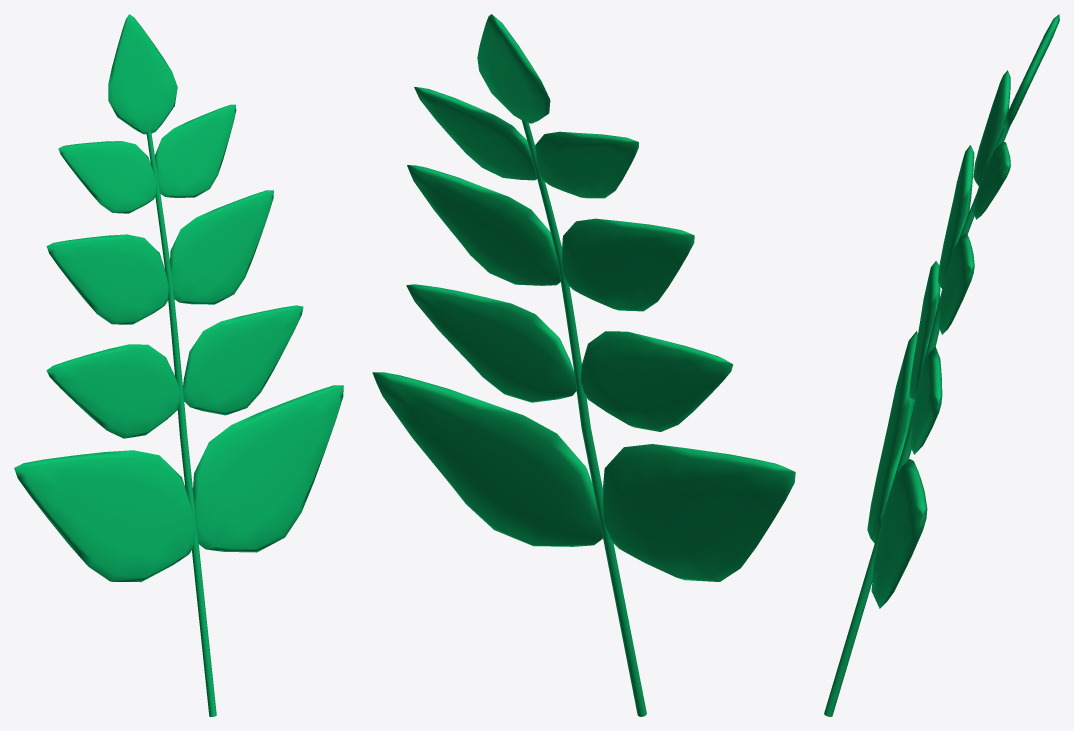
The model's file is Farm_2_Plant_2.glb.
3 renders of one model, left to right at view 1: azimuth 30°, elevation 25°; view 2: azimuth 150°, elevation 25°; view 3: azimuth 270°, elevation 25°, orthographic. The views are drawn at different scales.
Visible parts, largest first — view 1: Farm_2_Plant_2; view 2: Farm_2_Plant_2; view 3: Farm_2_Plant_2.
Part boxes in pixels (<box>): Farm_2_Plant_2: <box>14,14,343,716</box>; Farm_2_Plant_2: <box>372,14,795,716</box>; Farm_2_Plant_2: <box>824,14,1059,716</box>.
Size of the model in its own units: 1.25 by 2.25 by 0.6748.
Materials: 1 (1 with a texture image).
